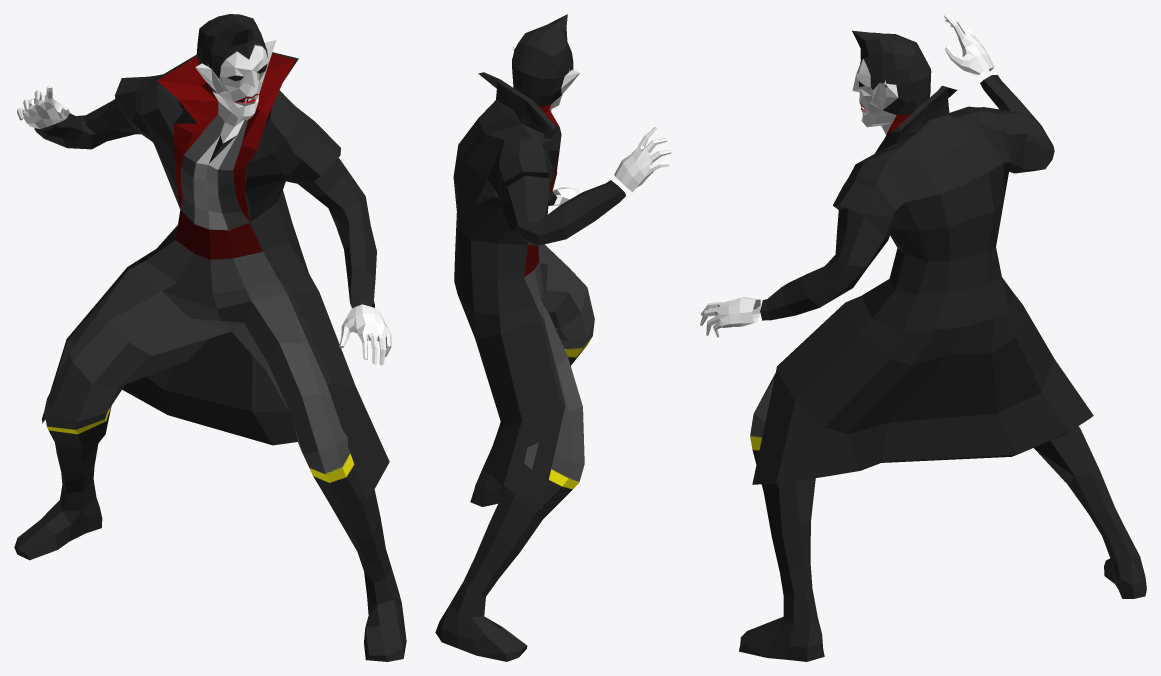
Rendered from VampireAttack(61).obj.
3 views of the same model, side by side, from view 1: azimuth 30°, elevation 25°; view 2: azimuth 150°, elevation 25°; view 3: azimuth 270°, elevation 25° (orthographic). The views are drawn at different scales.
Parts seen in each view (by area): view 1: Plane002; view 2: Plane002; view 3: Plane002.
Part boxes in pixels (x1,y1,x2,y2): Plane002: (14,14,406,661); Plane002: (435,14,671,661); Plane002: (700,14,1146,661).
Bounding box in the file's own units: 155 × 300 × 210.
